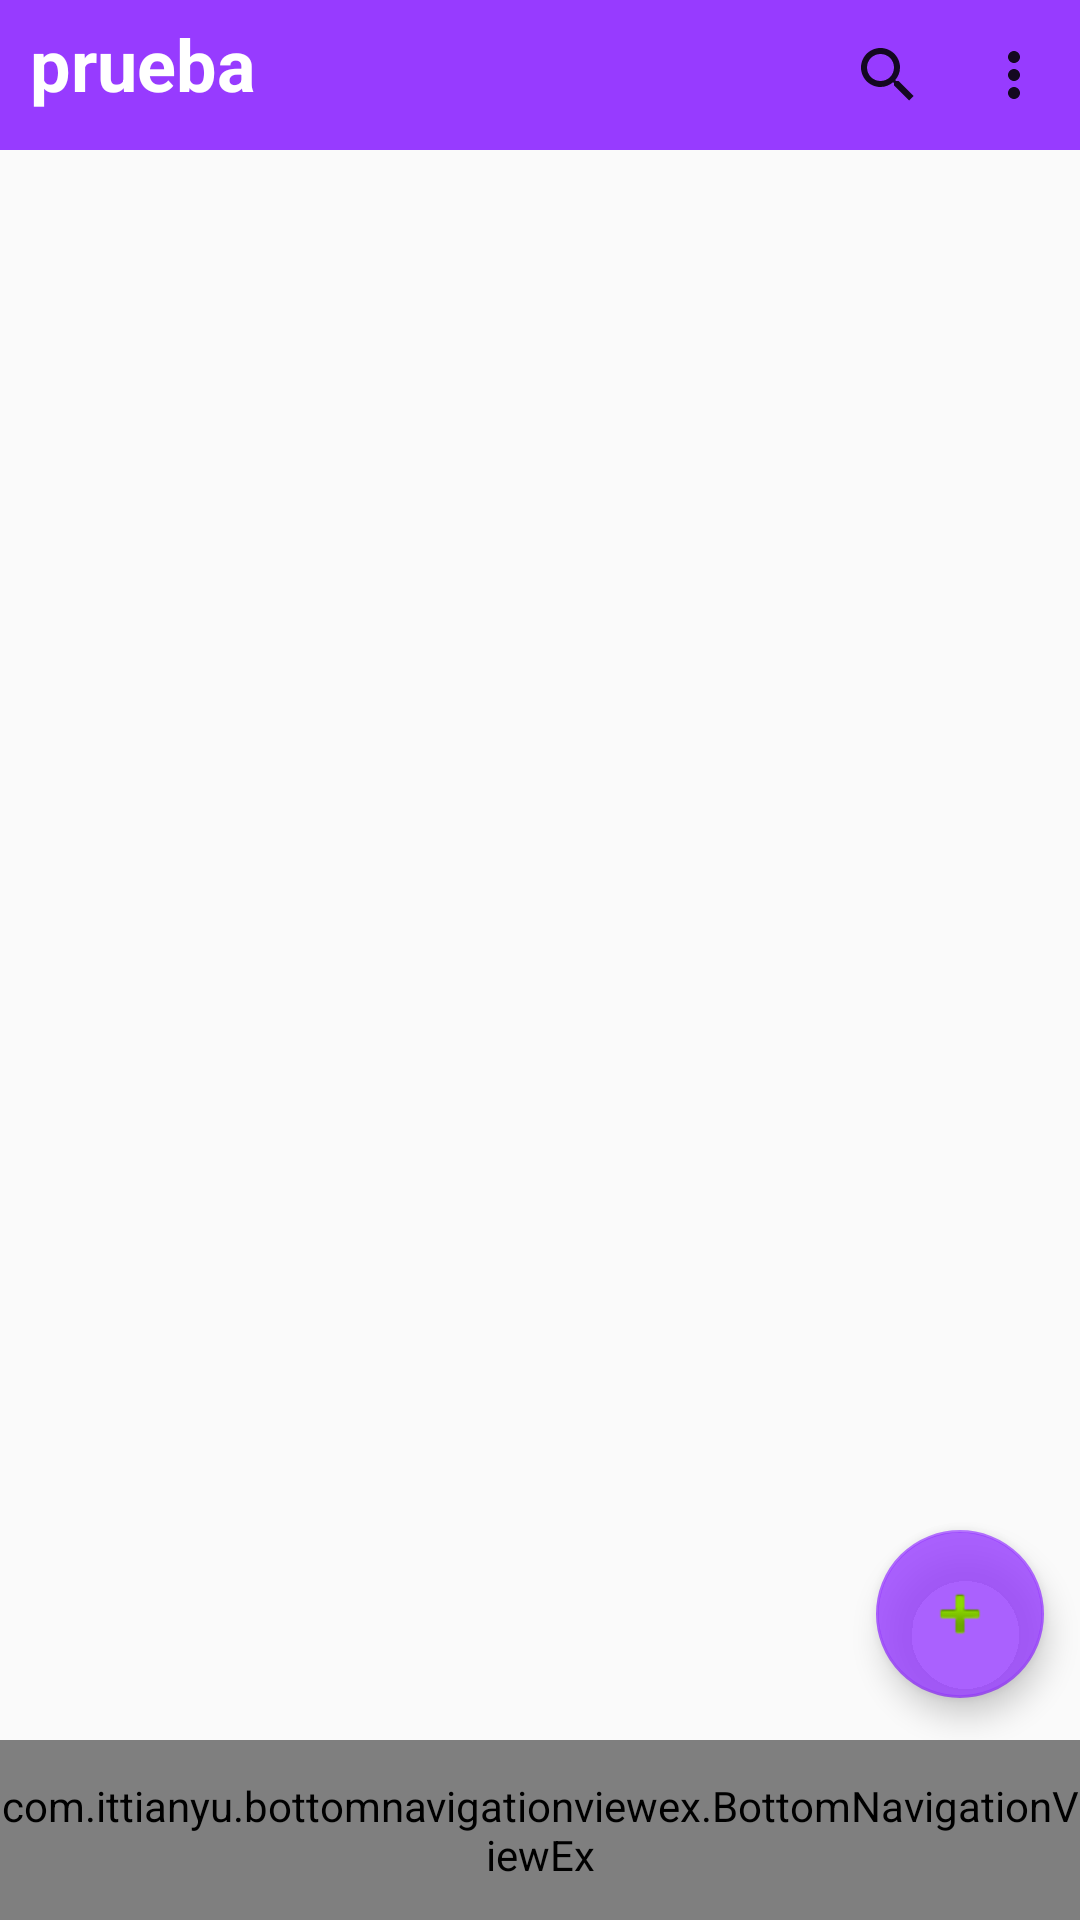

Icons on this 1080*1920 Android screen, each with its box as bbox=[x1, y1, x2, y2]:
add: bbox=[876, 1530, 1044, 1698]
